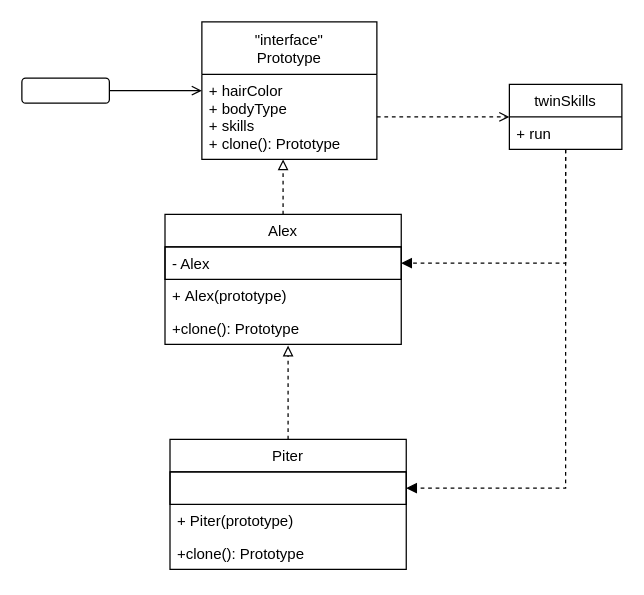
Some shapes in this 644 by 595 pixel diagram are drawn without their labels. Here are the shapes that lost their labels. From the top down, the centre of each, then its label:
At (x=65, y=90): "Client".
At (x=287, y=487): "- Piter".
